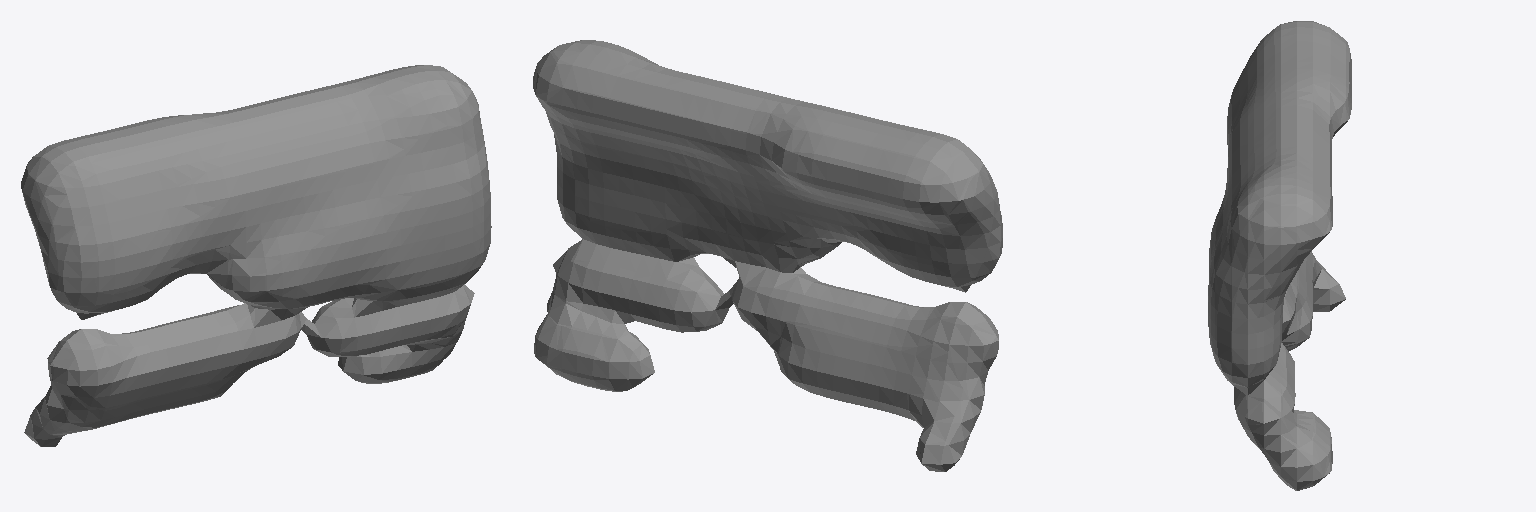
robot.urdf — cube.urdf:
<?xml version="0.0" ?> 
<robot name="cube.urdf"> 
<link name="legobrick"> 
<contact> 
<lateral_friction value="5.0"/> 
<rolling_friction value="0.0"/> 
<contact_cfm value="0.0"/> 
<contact_erp value="1.0"/> 
</contact> 
<inertial> 
<origin rpy="0 0 0" xyz="0.0 0.0 0.0"/> 
<mass value=".01"/> 
<inertia ixx="1" ixy="0" ixz="0" iyy="1" iyz="0" izz="1"/> 
</inertial> 
<visual> 
<origin rpy="1.570796 0 0" xyz="-0.038937789070505956 0.06201868055952868 -0.05491641621286286"/> 
<geometry> 
<mesh filename="V17_3.obj" scale="0.00081695745792525 0.00081695745792525 0.00081695745792525"/> 
</geometry> 
<material name="yellow"> 
<color rgba="0.6 0.6 0.6 1"/> 
</material> 
</visual> 
<collision> 
<origin rpy="1.570796 0 0" xyz="-0.038937789070505956 0.06201868055952868 -0.05491641621286286"/> 
<geometry> 
<mesh filename="V17_3.obj" scale="0.00081695745792525 0.00081695745792525 0.00081695745792525"/> 
</geometry> 
</collision> 
</link> 
</robot>

--- What the picture shows (computed from the rendered views, not written in the file) ---
The picture shows the robot from 3 angles, left to right: view 1: azimuth 30°, elevation 25°; view 2: azimuth 150°, elevation 25°; view 3: azimuth 270°, elevation 25°; orthographic projection.
Robot: cube.urdf — 1 links, 0 joints (none); root link legobrick; default pose: every joint at zero.
Visible links, largest first — view 1: legobrick; view 2: legobrick; view 3: legobrick.
Boxes of the visible links, bbox=[...] form: legobrick: bbox=[21, 65, 491, 446]; legobrick: bbox=[533, 40, 1002, 471]; legobrick: bbox=[1208, 21, 1351, 490].
Bounding box of the posed robot: 0.0815 × 0.0243 × 0.056 m (x, y, z).
1 mesh visuals loaded from 1 distinct referenced files (1 OBJ).
